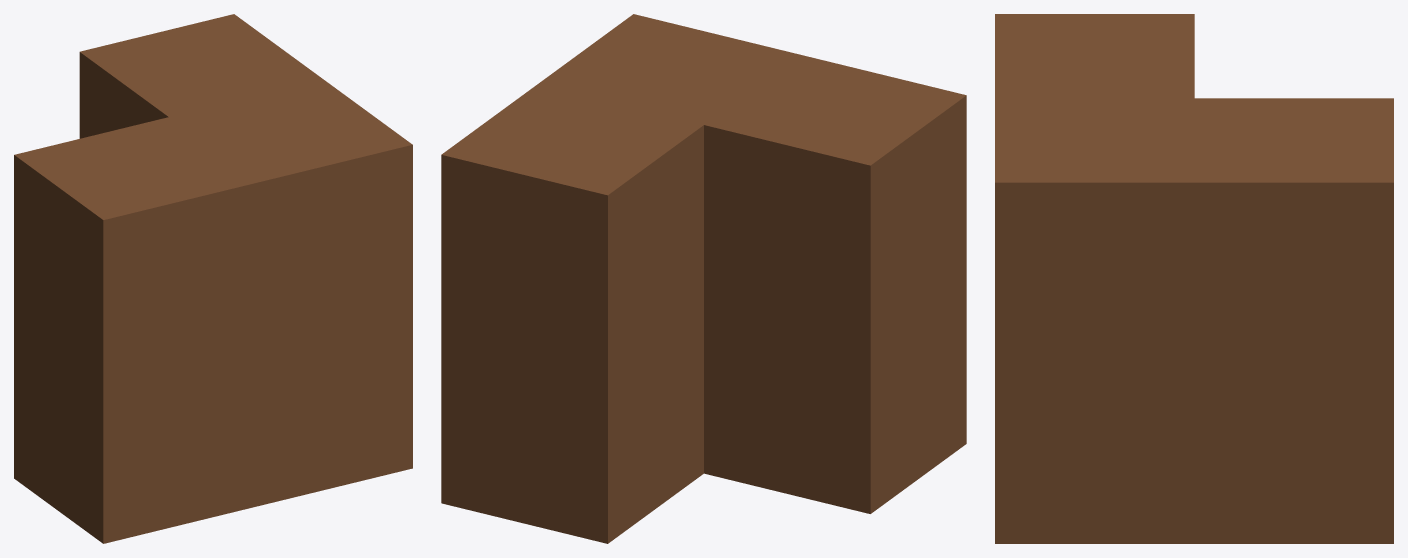
Rendered from WallCorner.fbx.
3 renders of one model, left to right at view 1: azimuth 30°, elevation 25°; view 2: azimuth 150°, elevation 25°; view 3: azimuth 270°, elevation 25°, orthographic. The views are drawn at different scales.
Parts seen in each view (by area): view 1: Cube.004; view 2: Cube.004; view 3: Cube.004.
Part boxes in pixels (x1,y1,x2,y2): Cube.004: (14,14,412,543); Cube.004: (441,14,966,543); Cube.004: (995,14,1393,543).
Size of the model in its own units: 200 by 200 by 200.
